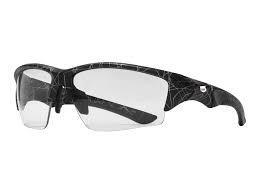Visor: (8, 59, 253, 146)
